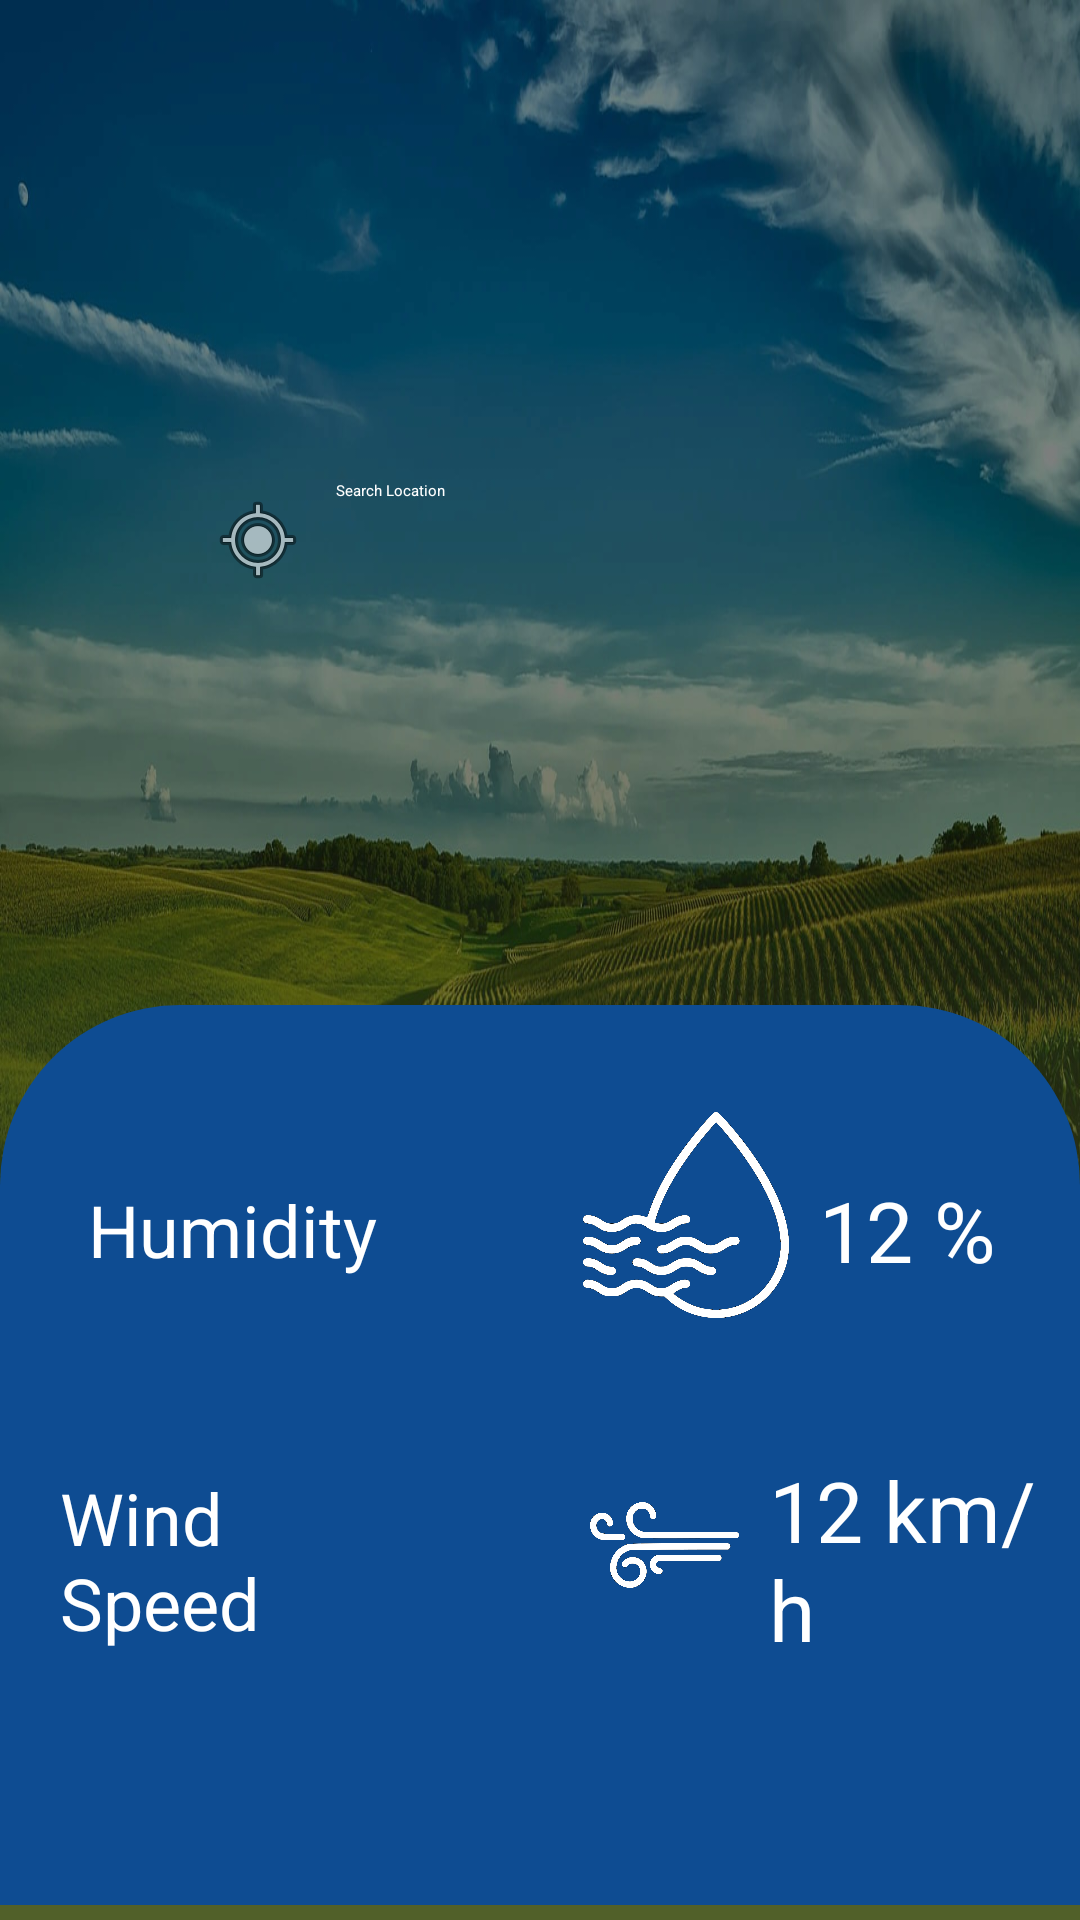

Screen size 1080px×1920px. Icon name, then its box in pixels as (x1, y1, x2, y2):
moisture: (583, 1112, 789, 1318)
